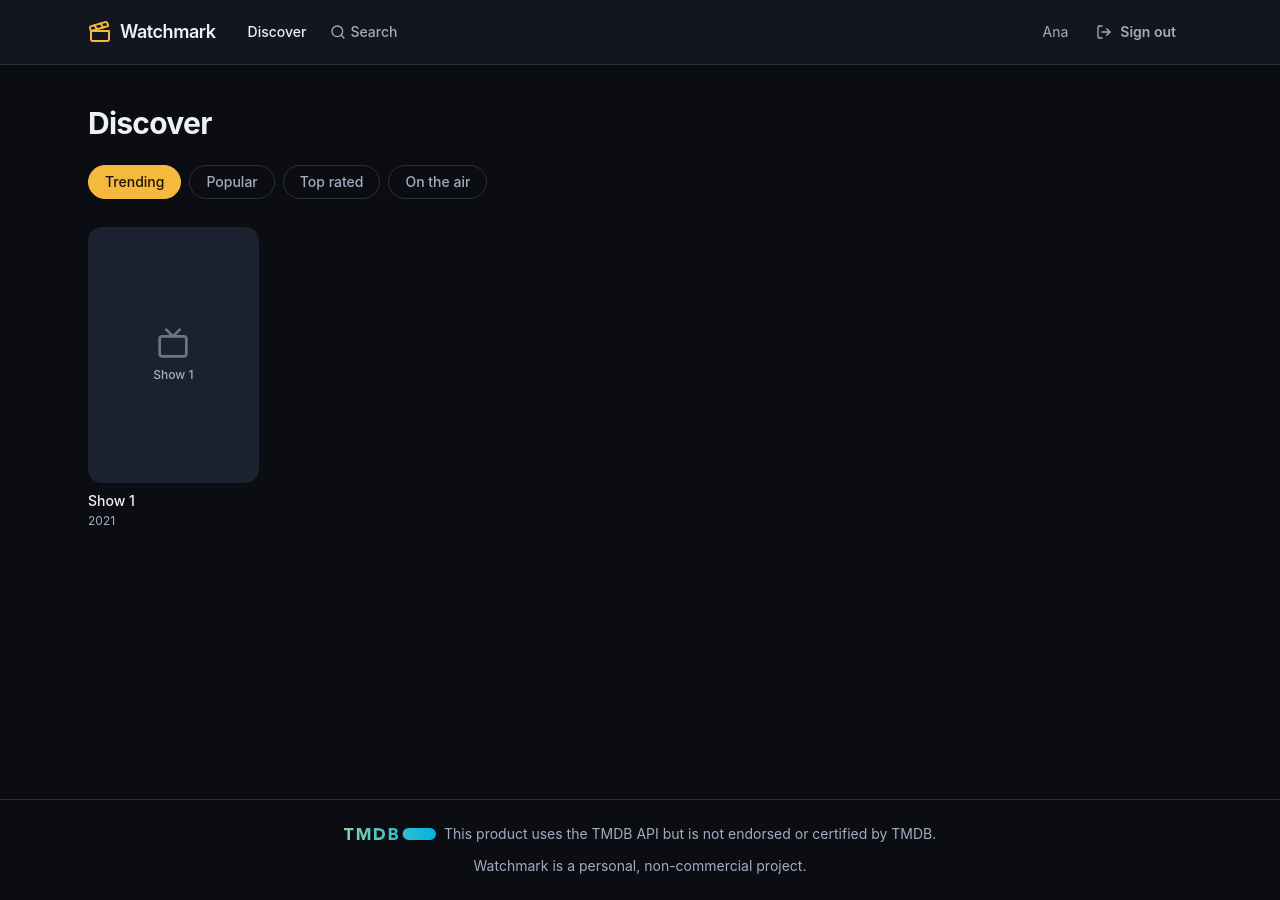
Test: DiscoverPage › switches lists
Click the link "Top rated".
click(332, 182)  # box [283,165,380,199]
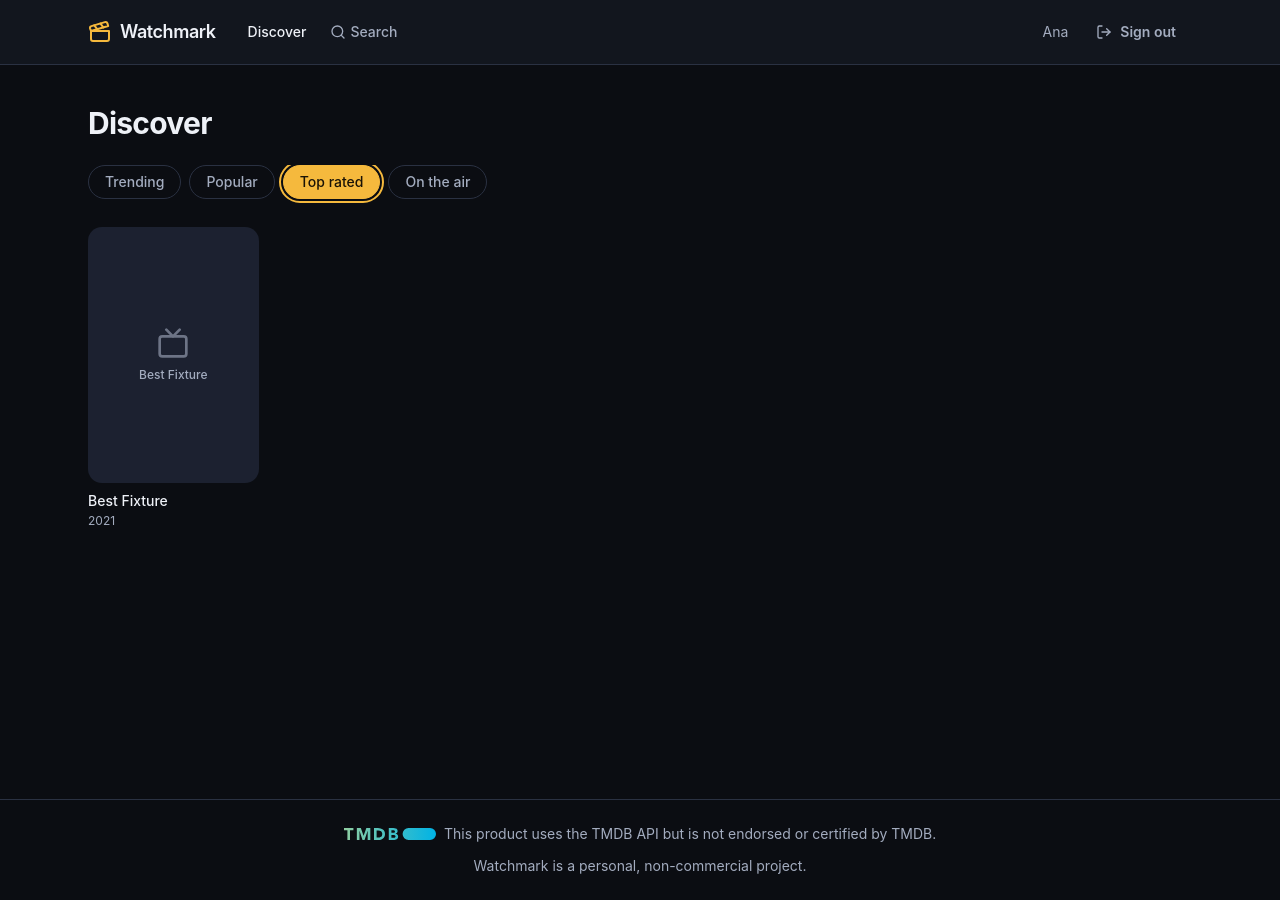
Expected: the link "Best Fixture Best Fixture 2021" is shown, [88,227,259,529]
